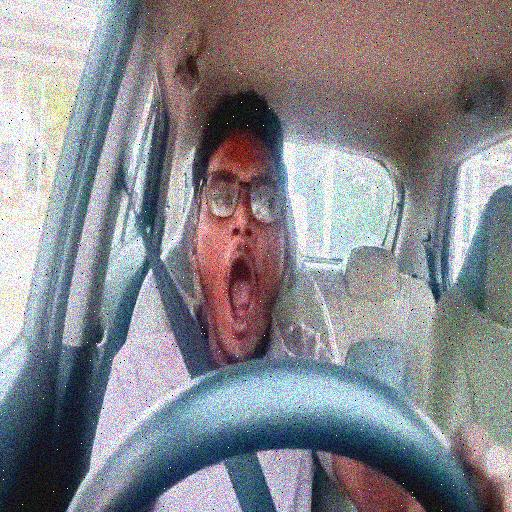yawns: (186, 89, 288, 362)
